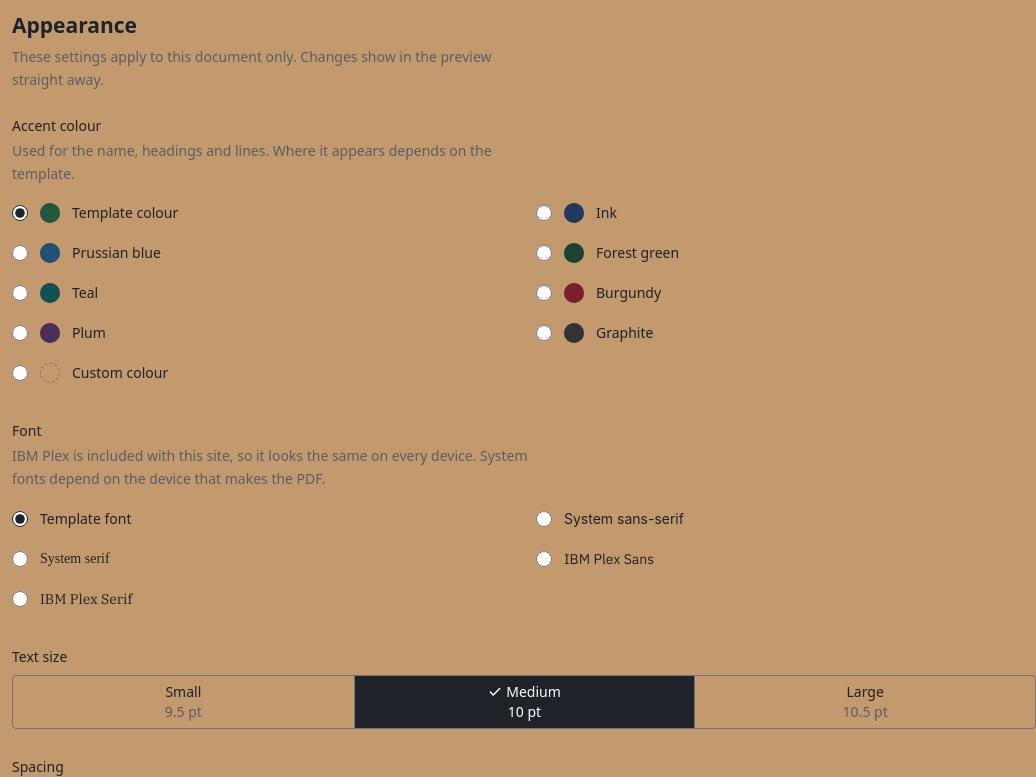
Test: DesignPanel appearance › starts a custom colour from the colour in use and warns when contrast is below 4.5:1
The width and height of the screenshot is (1036, 777).
Click the radio button labelled "Custom colour": (20, 373) x1=12 y1=365 x2=28 y2=381
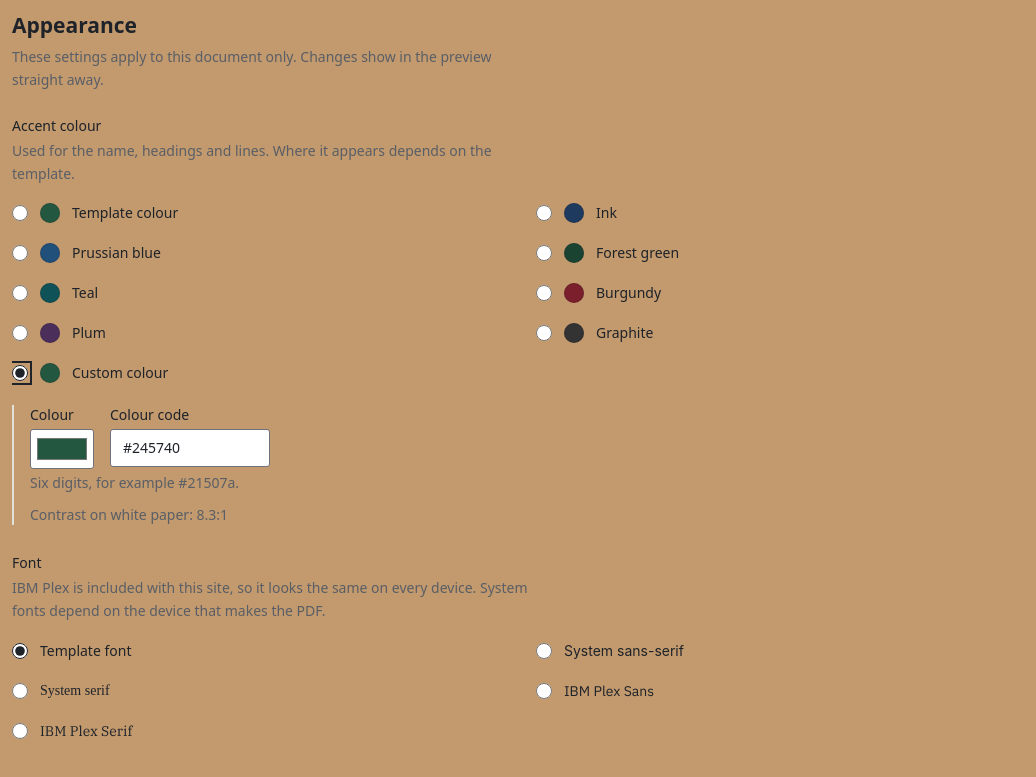
Expected: the field labelled "Colour code" holds "#245740"
Expected: the colour field labelled "Colour" holds "#245740", x1=30 y1=429 x2=94 y2=469
Replace the text in the field labelled "Colour code" with "#ffcc00": (190, 448) x1=110 y1=429 x2=270 y2=467
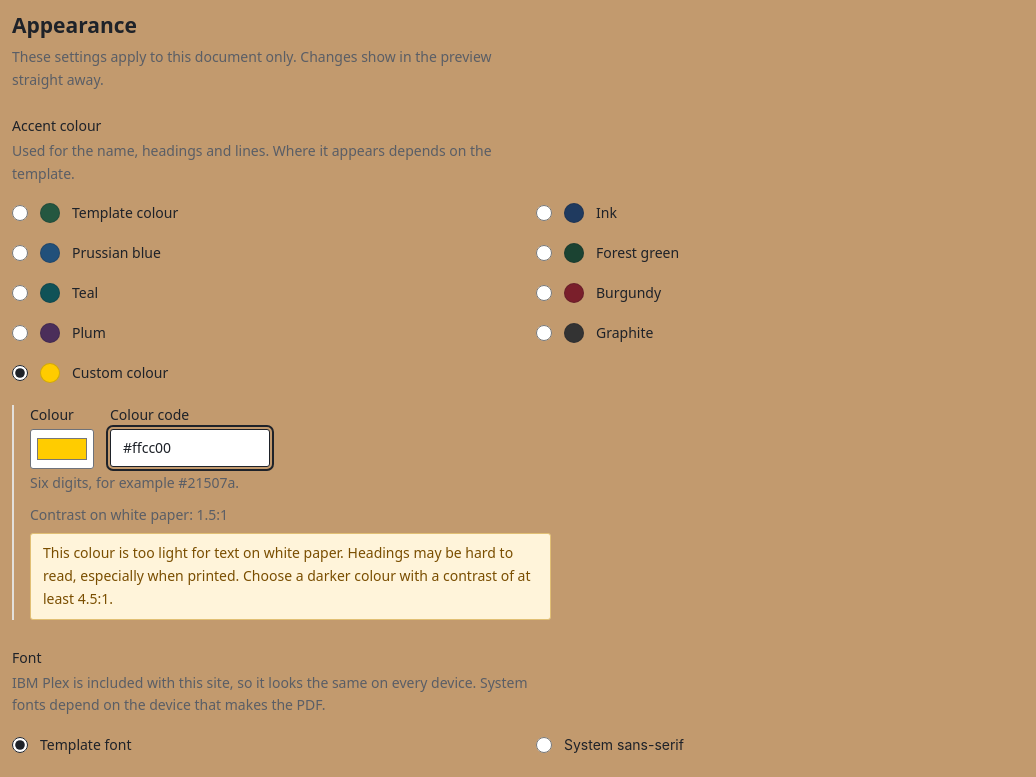
Expected: the radio button labelled "Custom colour" is checked, x1=12 y1=365 x2=28 y2=381
Expected: the text with test id "contrast-warning" shows "This colour is too light for text on white paper.", x1=43 y1=543 x2=530 y2=608
# A dark colour clears the warning.
Replace the text in the field labelled "Colour code" with "#2b2b6e": (190, 448) x1=110 y1=429 x2=270 y2=467
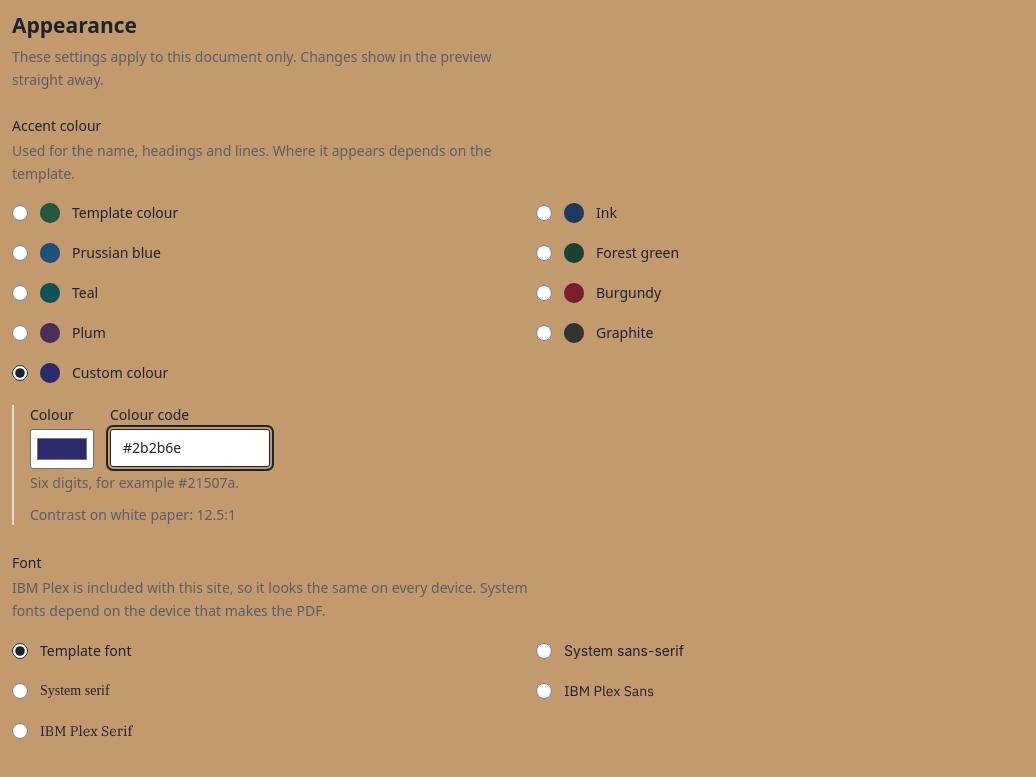
Expected: the text with test id "contrast-warning" is gone
